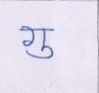u_matra: (25, 45, 55, 59)
